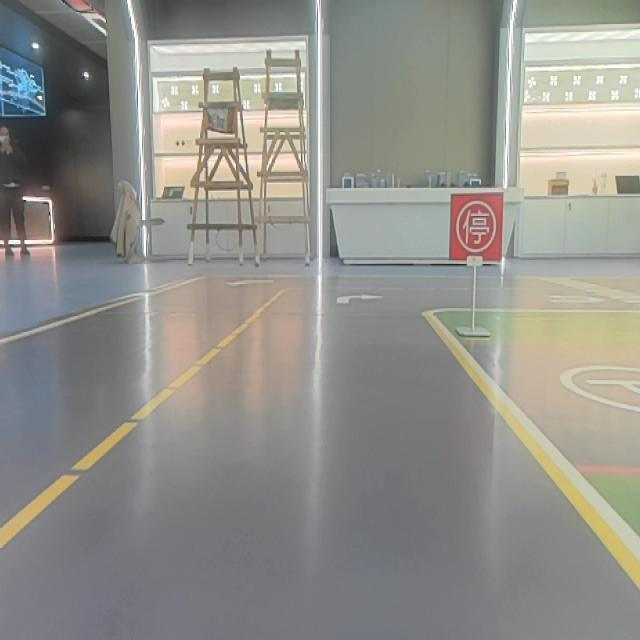left_lane: (0, 292, 284, 553)
right_lane: (423, 317, 639, 572), (0, 277, 194, 352)
